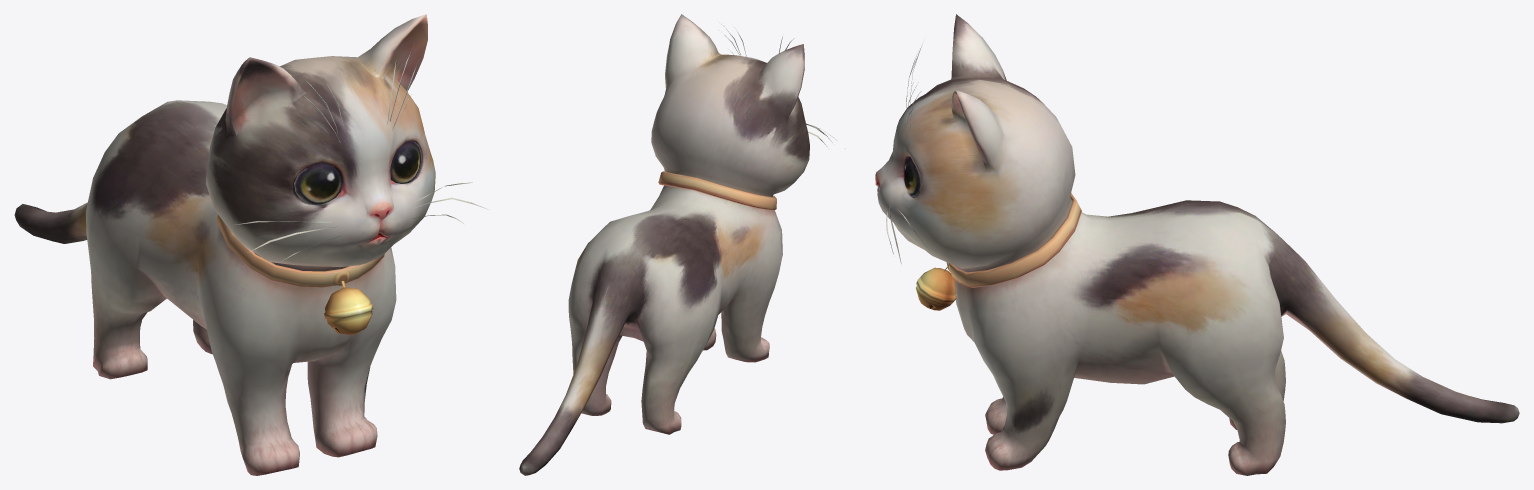
The model's file is cat.glb.
The picture shows the model from 3 angles, left to right: view 1: azimuth 30°, elevation 25°; view 2: azimuth 150°, elevation 25°; view 3: azimuth 270°, elevation 25°; orthographic projection. The views are drawn at different scales.
Parts seen in each view (by area): view 1: model_2; view 2: model_2; view 3: model_2.
Part boxes in pixels (x1,y1,x2,y2): model_2: (14, 14, 488, 475); model_2: (519, 14, 845, 475); model_2: (875, 14, 1519, 475).
Bounding box in the file's own units: 0.4803 × 0.8354 × 1.25.
1 material, 1 textured.
